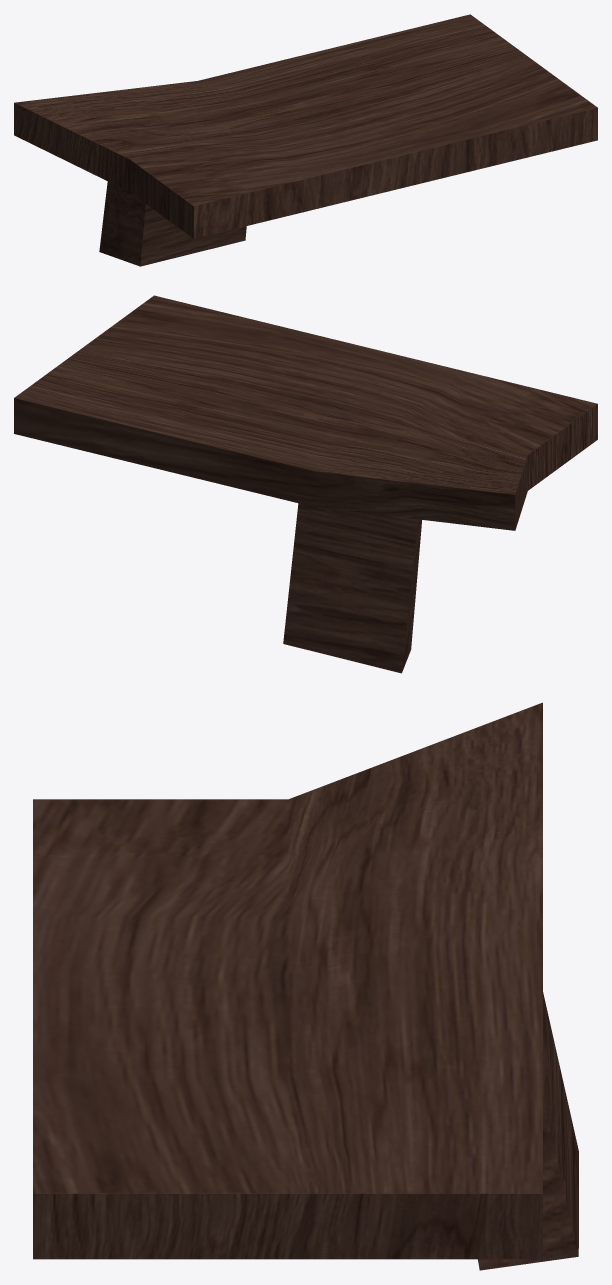
File: NNJ0510019.fbx
3 views of the same model, one above another, from view 1: azimuth 30°, elevation 25°; view 2: azimuth 150°, elevation 25°; view 3: azimuth 270°, elevation 25° (orthographic). The views are drawn at different scales.
Parts seen in each view (by area): view 1: smNNJ0510019; view 2: smNNJ0510019; view 3: smNNJ0510019.
Boxes of the visible parts, x1,y1,x2,y2 form: smNNJ0510019: (14,14,597,266); smNNJ0510019: (14,295,597,673); smNNJ0510019: (33,702,578,1270).
Size of the model in its own units: 110 by 41.38 by 57.12.
1 material, 1 textured.
